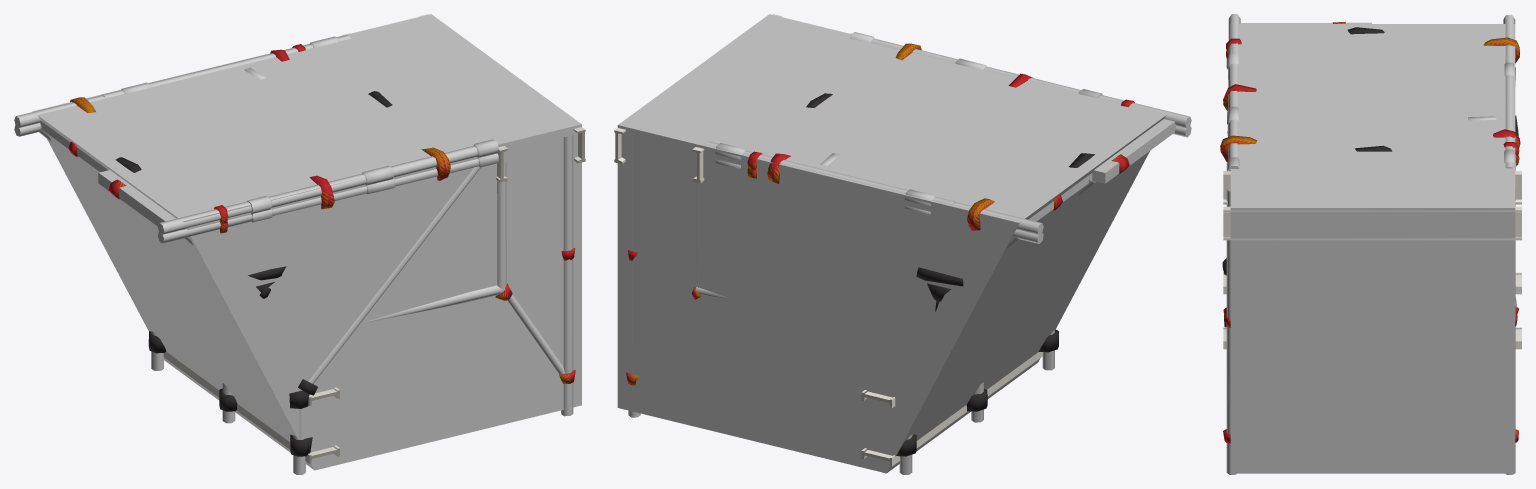
Rendered from builderRoofSlope_WIP.FBX.
3 renders of one model, left to right at view 1: azimuth 30°, elevation 25°; view 2: azimuth 150°, elevation 25°; view 3: azimuth 270°, elevation 25°, orthographic. The views are drawn at different scales.
Parts seen in each view (by area): view 1: builderRoofSlope_WIP_COL, builderRoofSlope_WIP_LOD0; view 2: builderRoofSlope_WIP_COL, builderRoofSlope_WIP_LOD0; view 3: builderRoofSlope_WIP_COL, builderRoofSlope_WIP_LOD0.
Part boxes in pixels (x1,y1,x2,y2): builderRoofSlope_WIP_COL: [32, 14, 581, 470]; builderRoofSlope_WIP_LOD0: [14, 14, 585, 474]; builderRoofSlope_WIP_COL: [617, 14, 1166, 473]; builderRoofSlope_WIP_LOD0: [614, 14, 1191, 474]; builderRoofSlope_WIP_COL: [1230, 24, 1515, 473]; builderRoofSlope_WIP_LOD0: [1220, 14, 1521, 474].
Size of what is drawn, in the model's own units: 4.7 by 3.13 by 3.1.
